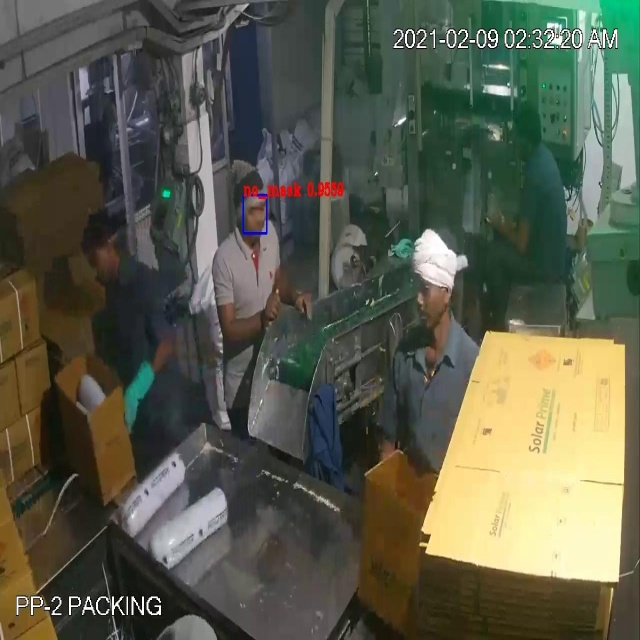Guantes: (117, 356, 158, 441)
Sin_guantes: (212, 285, 286, 349), (270, 253, 321, 336), (489, 198, 538, 265)
